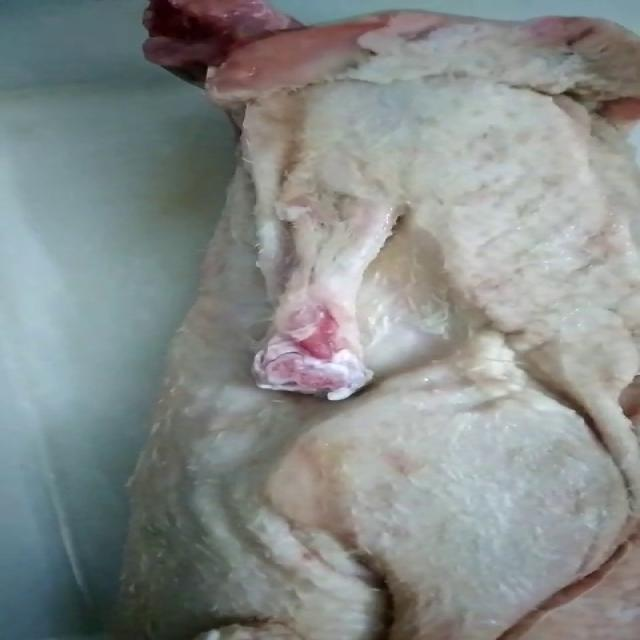chicken: (112, 0, 638, 638)
